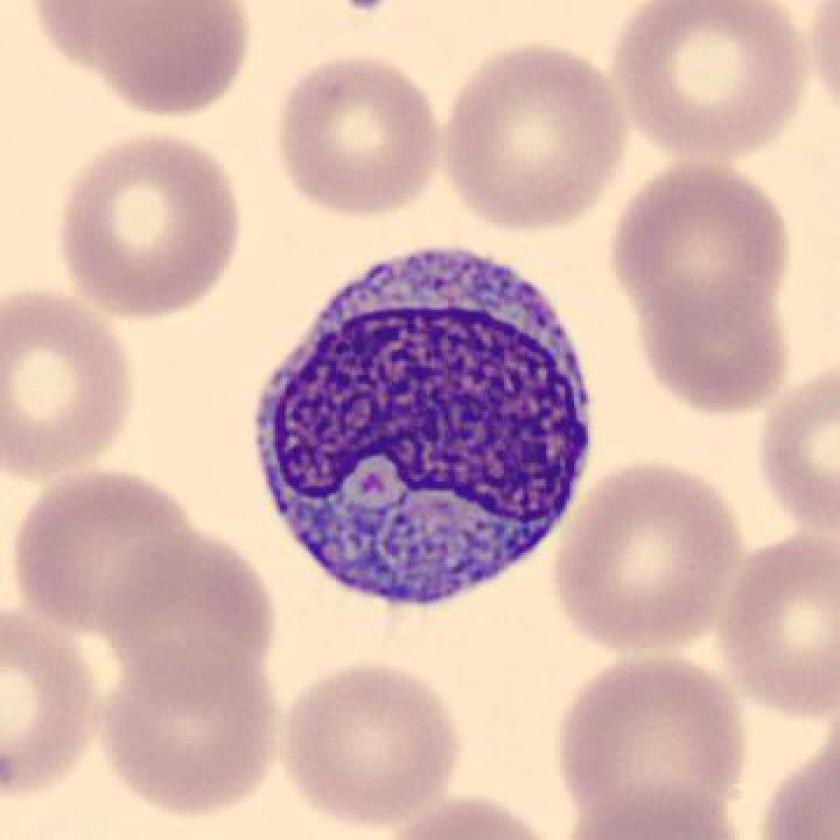monocyte: (232, 228, 610, 626)
